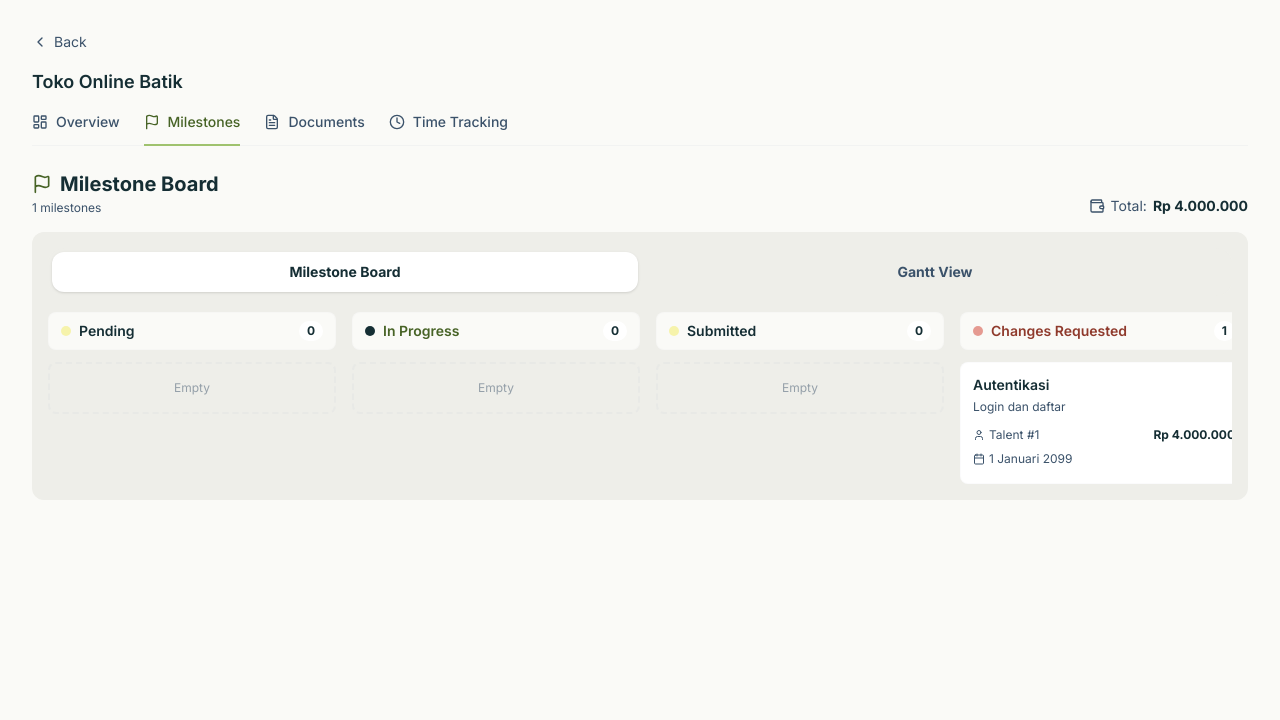
Scenario: the controls each role is offered on a submitted milestone › offers a talent the way back into work after a revision request
Click the button "Autentikasi" at (1011, 384), box 973,375 -> 1235,467
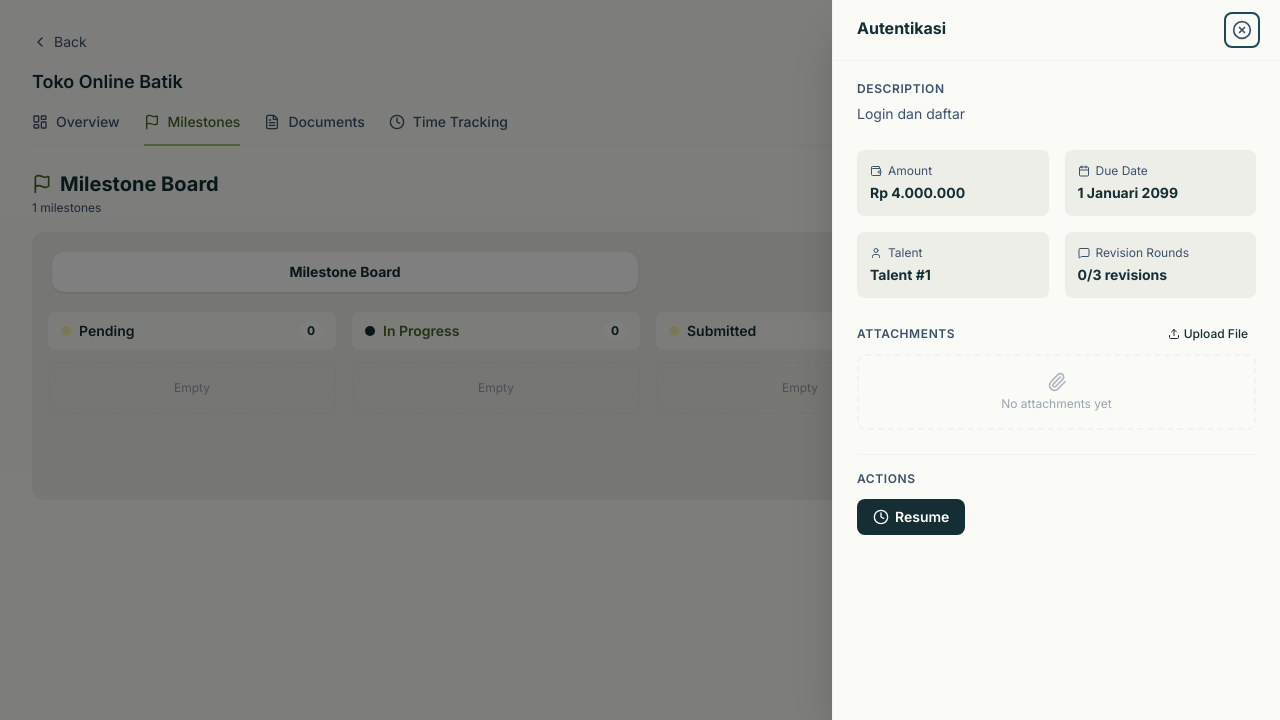
Check: the button "Resume" is shown, box 857,499 -> 965,535
